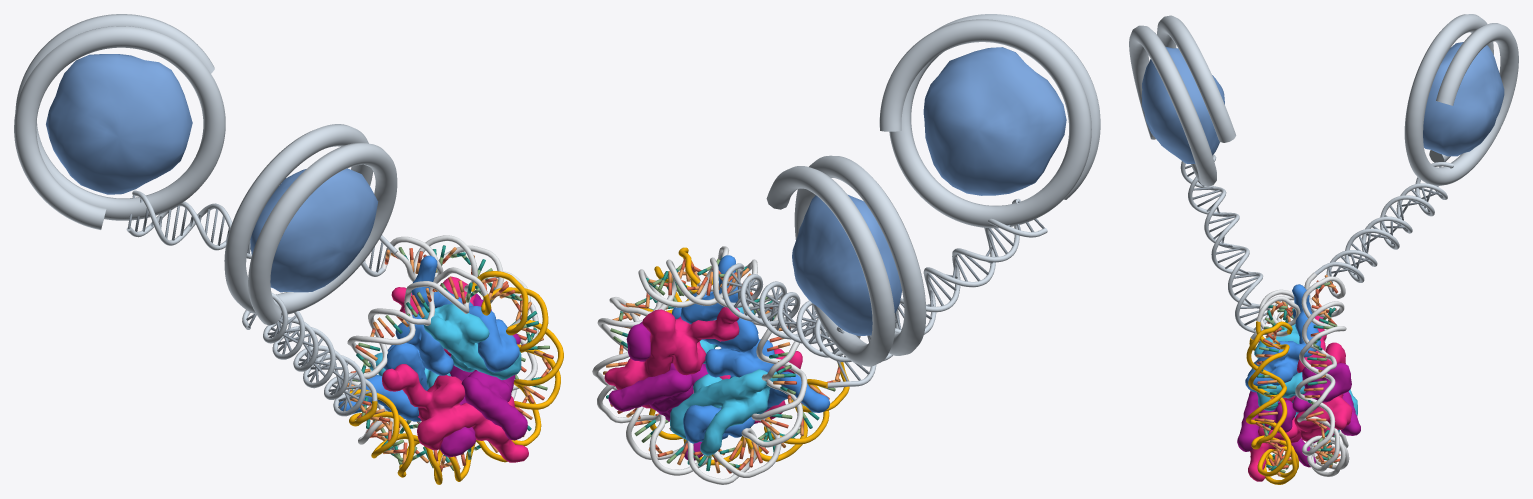
Rendered from nucleosome.glb.
The picture shows the model from 3 angles, left to right: view 1: azimuth 30°, elevation 25°; view 2: azimuth 150°, elevation 25°; view 3: azimuth 270°, elevation 25°; orthographic projection. The views are drawn at different scales.
Visible parts, largest first — view 1: cz-nucleosome, cz-helix, cz-gene, cz-dna, cz-histones.002, cz-histones, cz-histones.003, cz-histones.001, cz-histones.004, cz-bases.001, cz-bases, cz-bases.002 (+2 smaller); view 2: cz-nucleosome, cz-helix, cz-dna, cz-histones.006, cz-histones.005, cz-histones.004, cz-histones.007, cz-gene, cz-histones, cz-bases.001, cz-bases, cz-bases.003 (+1 smaller); view 3: cz-nucleosome, cz-helix, cz-dna, cz-gene, cz-histones, cz-histones.006, cz-histones.007, cz-histones.003, cz-bases, cz-bases.001, cz-histones.001, cz-histones.002 (+2 smaller).
Part boxes in pixels (x1,y1,x2,y2): cz-nucleosome: (14,14,397,325); cz-helix: (126,190,397,416); cz-gene: (349,271,563,484); cz-dna: (334,235,538,454); cz-histones.002: (382,364,528,462); cz-histones: (395,255,519,375); cz-histones.003: (439,370,527,457); cz-histones.001: (418,303,521,379); cz-histones.004: (338,342,428,421); cz-bases.001: (347,247,550,469); cz-bases: (350,248,553,471); cz-bases.002: (351,245,541,462); cz-nucleosome: (766,14,1100,366); cz-helix: (721,198,1047,387); cz-dna: (592,246,807,484); cz-histones.006: (604,307,739,408); cz-histones.005: (670,369,777,455); cz-histones.004: (683,339,829,443); cz-histones.007: (608,321,693,421); cz-gene: (640,247,849,469); cz-histones: (672,255,758,352); cz-bases.001: (603,268,840,473); cz-bases: (617,258,840,473); cz-bases.003: (610,259,835,467); cz-nucleosome: (1129,14,1518,186); cz-helix: (1180,154,1453,339); cz-dna: (1256,272,1349,476); cz-gene: (1246,321,1298,484); cz-histones: (1245,284,1320,392); cz-histones.006: (1294,311,1352,441); cz-histones.007: (1292,363,1360,443); cz-histones.003: (1237,390,1315,467); cz-bases: (1254,280,1340,468); cz-bases.001: (1255,274,1335,476); cz-histones.001: (1254,324,1305,410); cz-histones.002: (1248,395,1300,481).
Size of the model in its own units: 21.58 by 21.74 by 20.86.
